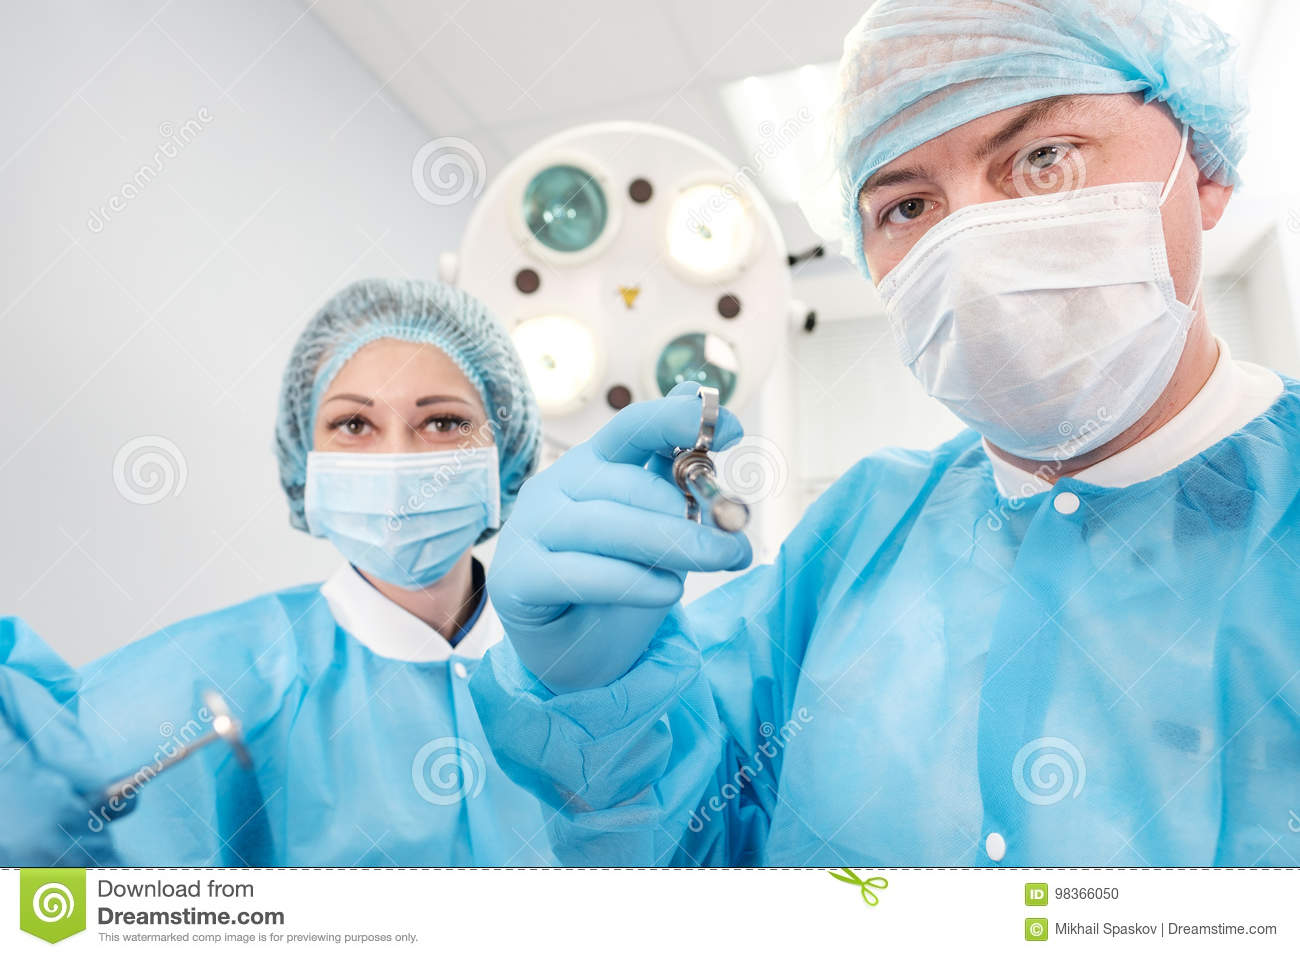mask: (879, 224, 1195, 438), (307, 448, 491, 577)
